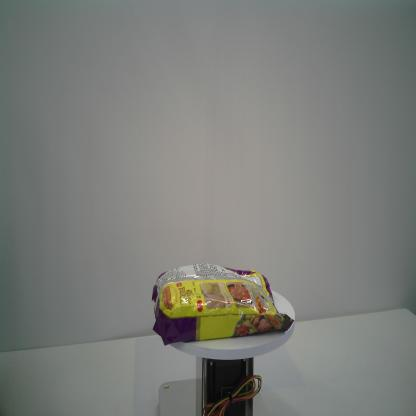Instant Noodles: (150, 261, 295, 348)
